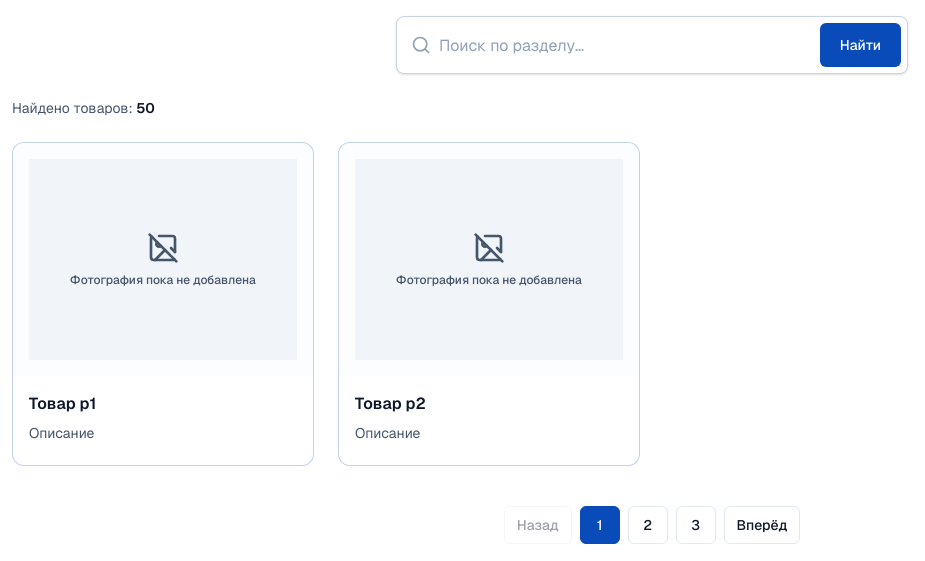
Test: ClientCatalogSearch: пагинация › клик по «Вперёд» делает fetch следующей страницы и обновляет URL
The image size is (925, 561).
Click the link "Вперёд" at (762, 525), box x1=724 y1=506 x2=800 y2=544
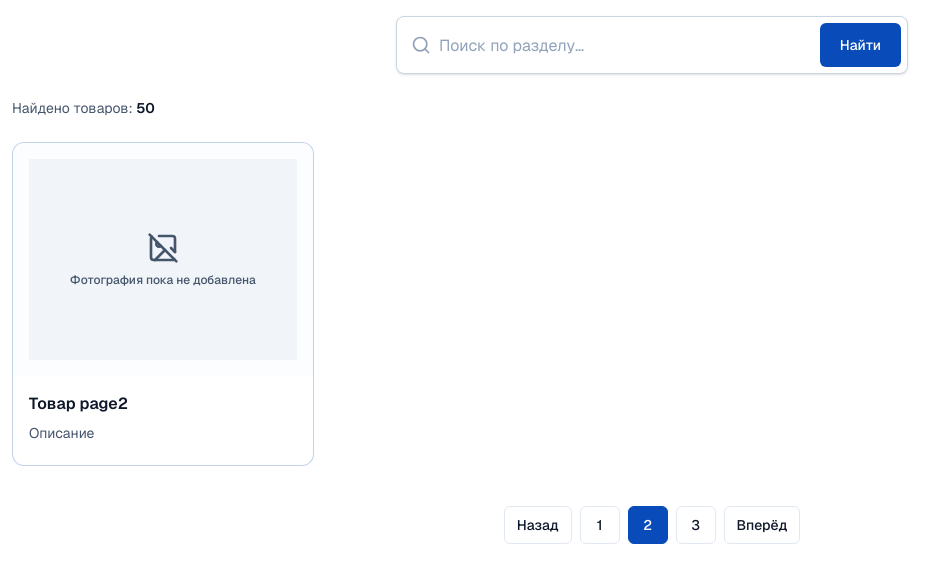
Expected: the text "Товар page2" is shown, x1=29 y1=393 x2=128 y2=414
